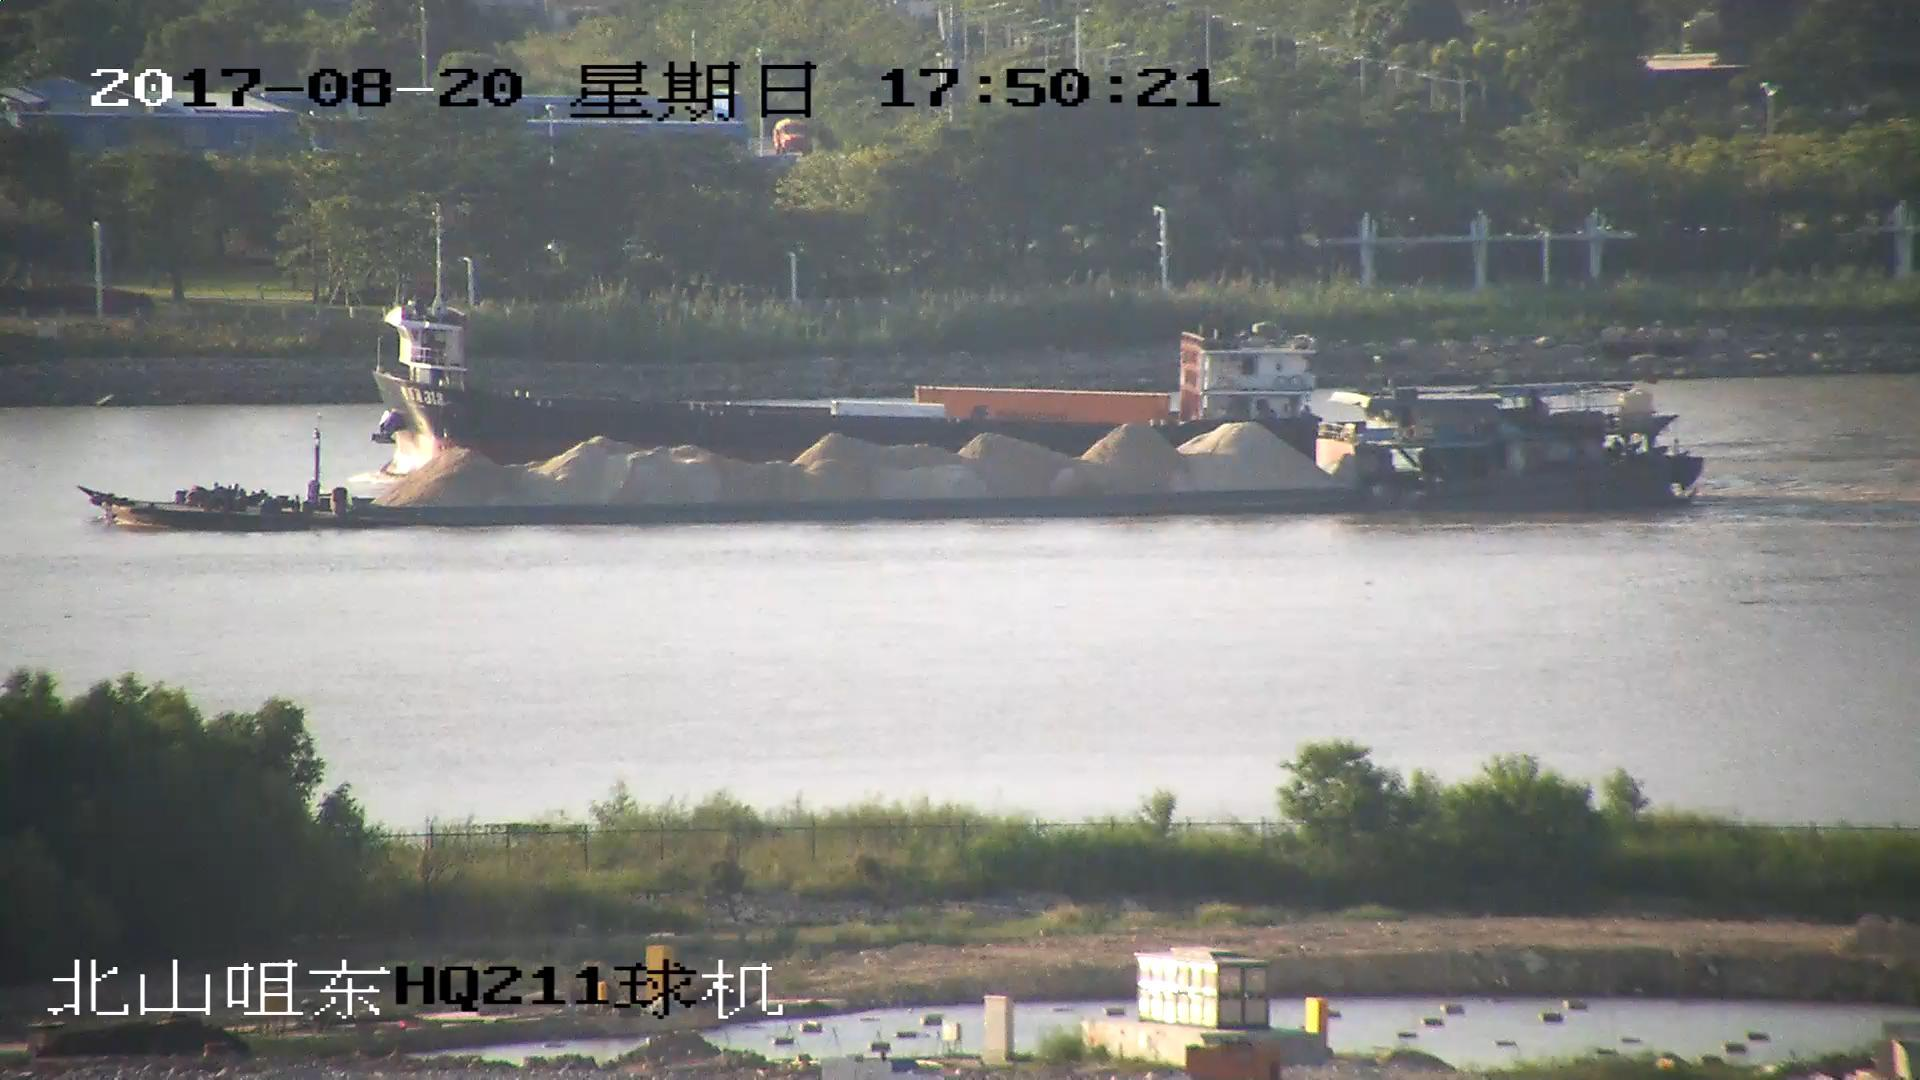Ship: (363, 202, 1332, 477), (83, 398, 1716, 526)
